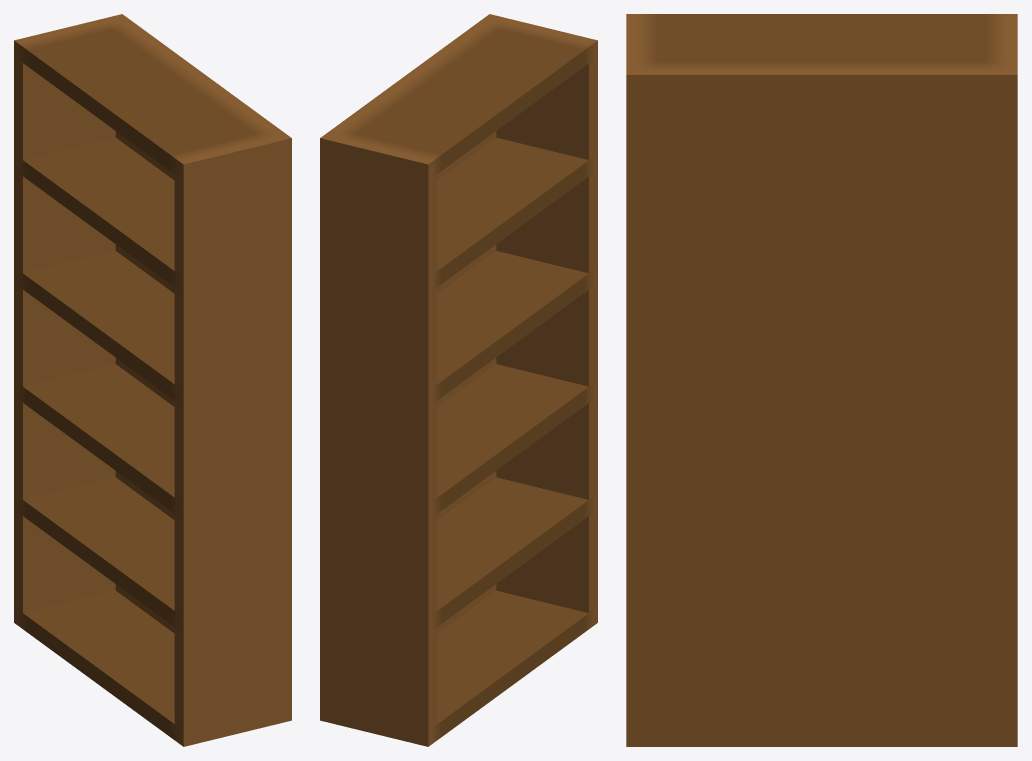
The model's file is bookcasetall.fbx.
The picture shows the model from 3 angles, left to right: view 1: azimuth 30°, elevation 25°; view 2: azimuth 150°, elevation 25°; view 3: azimuth 270°, elevation 25°; orthographic projection. The views are drawn at different scales.
Visible parts, largest first — view 1: bookcasetall; view 2: bookcasetall; view 3: bookcasetall.
Boxes of the visible parts, x1,y1,x2,y2 form: bookcasetall: [14, 14, 291, 746]; bookcasetall: [320, 14, 597, 746]; bookcasetall: [626, 14, 1017, 746].
Bounding box in the file's own units: 7 × 36 × 19.
